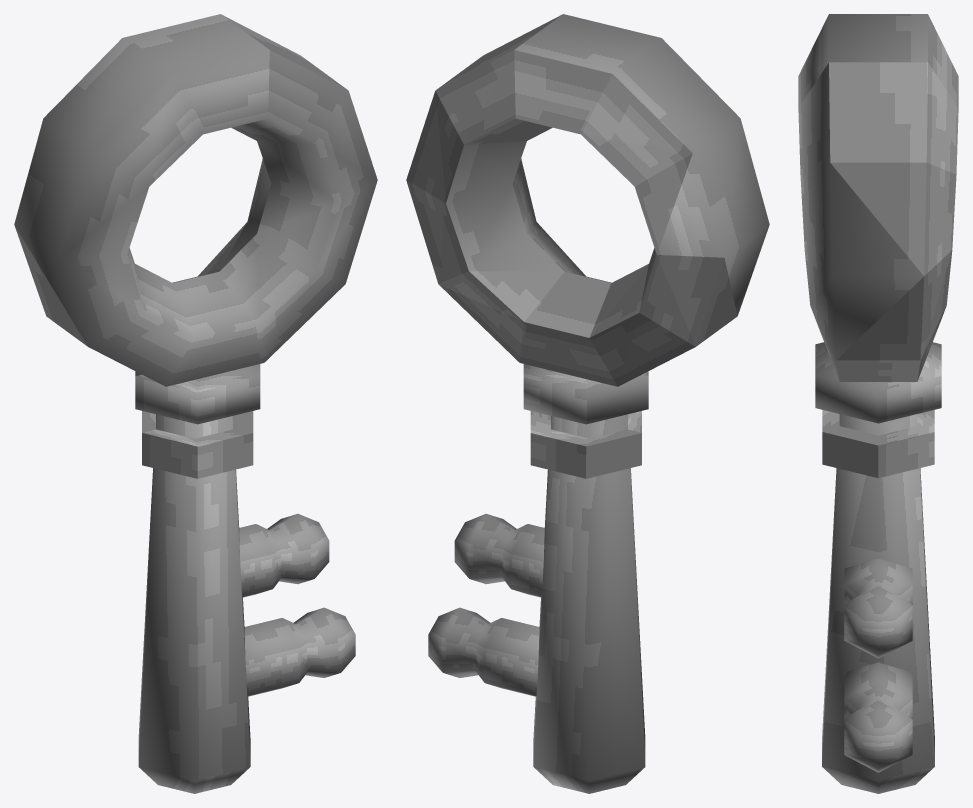
Rendered from Key.fbx.
3 views of the same model, side by side, from view 1: azimuth 30°, elevation 25°; view 2: azimuth 150°, elevation 25°; view 3: azimuth 270°, elevation 25° (orthographic).
Visible parts, largest first — view 1: n0b0; view 2: n0b0; view 3: n0b0.
Boxes of the visible parts, x1=… form: n0b0: x1=14, y1=14, x2=377, y2=793; n0b0: x1=406, y1=14, x2=769, y2=793; n0b0: x1=798, y1=14, x2=958, y2=793.
Size of the model in its own units: 68.07 by 150 by 29.41.
1 material, 1 textured.
